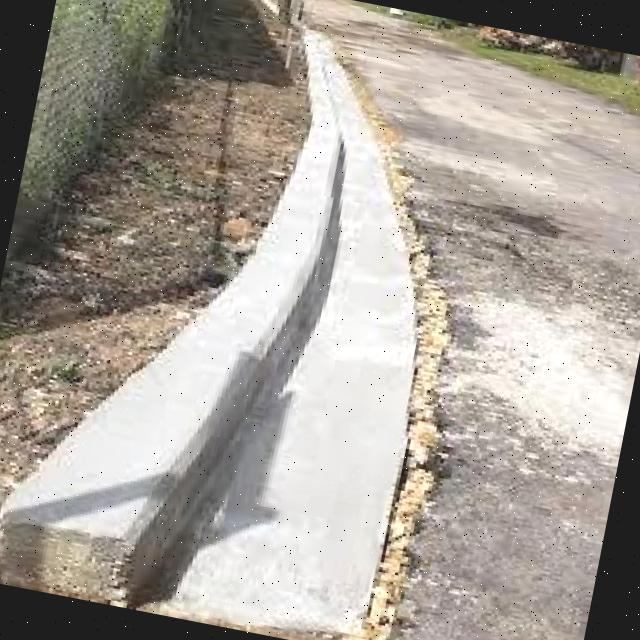curb: (1, 30, 419, 639)
